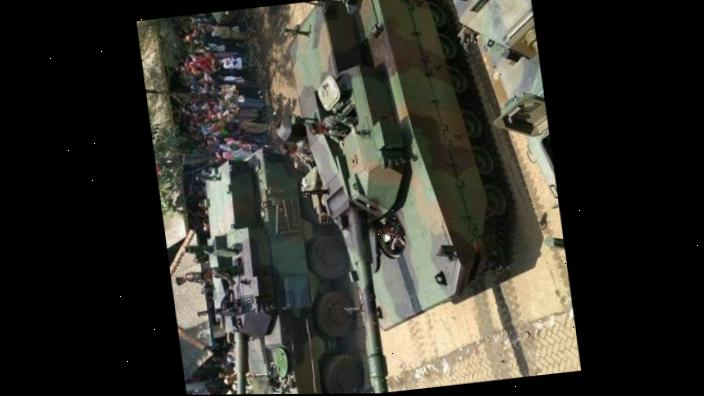tank: (273, 0, 536, 394), (162, 140, 369, 395)
